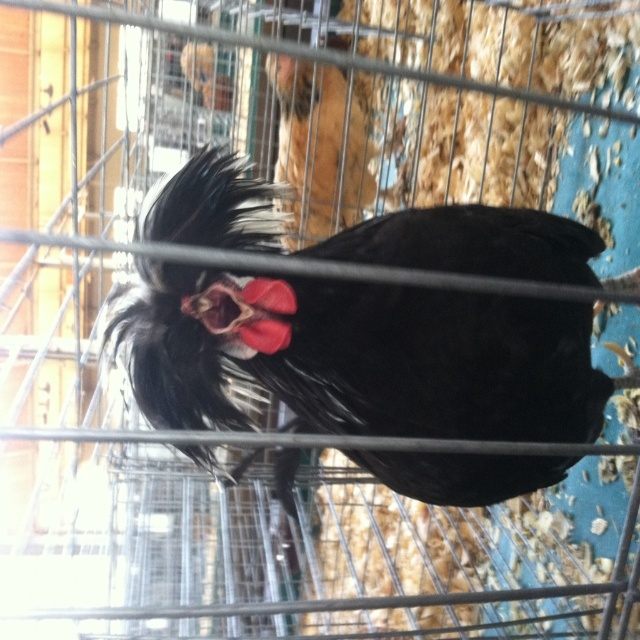Chicken: (129, 169, 640, 510)
